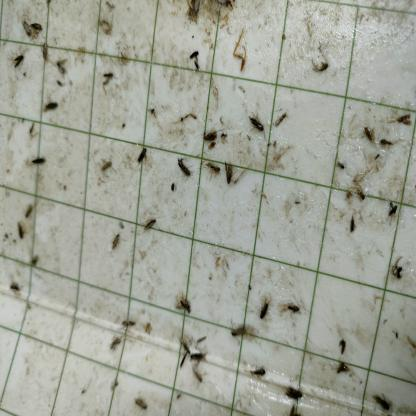prays_oleae: (385, 196, 401, 238), (223, 318, 251, 342), (368, 386, 392, 412), (398, 99, 416, 130), (175, 334, 191, 368), (272, 112, 294, 136), (377, 134, 397, 156), (331, 358, 351, 380), (100, 67, 113, 99), (248, 113, 265, 137), (97, 154, 113, 178), (224, 162, 236, 193), (12, 51, 28, 74), (390, 253, 404, 279), (137, 144, 150, 171), (359, 119, 371, 148), (258, 297, 270, 325), (176, 157, 190, 180), (345, 208, 356, 237), (176, 295, 191, 316), (53, 54, 66, 78), (29, 18, 43, 40), (335, 338, 349, 360), (142, 216, 158, 235), (208, 158, 223, 178), (188, 370, 206, 386), (252, 365, 267, 384), (121, 316, 136, 334), (42, 96, 61, 110), (14, 220, 26, 241), (286, 296, 297, 318), (9, 278, 21, 298), (204, 127, 218, 144), (356, 185, 367, 206), (289, 388, 303, 404), (111, 232, 121, 253), (32, 154, 47, 168), (190, 349, 204, 364), (20, 19, 30, 39), (41, 41, 49, 65), (23, 204, 34, 221), (187, 48, 199, 62)
